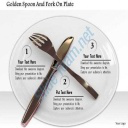Fork: (26, 31, 104, 101)
